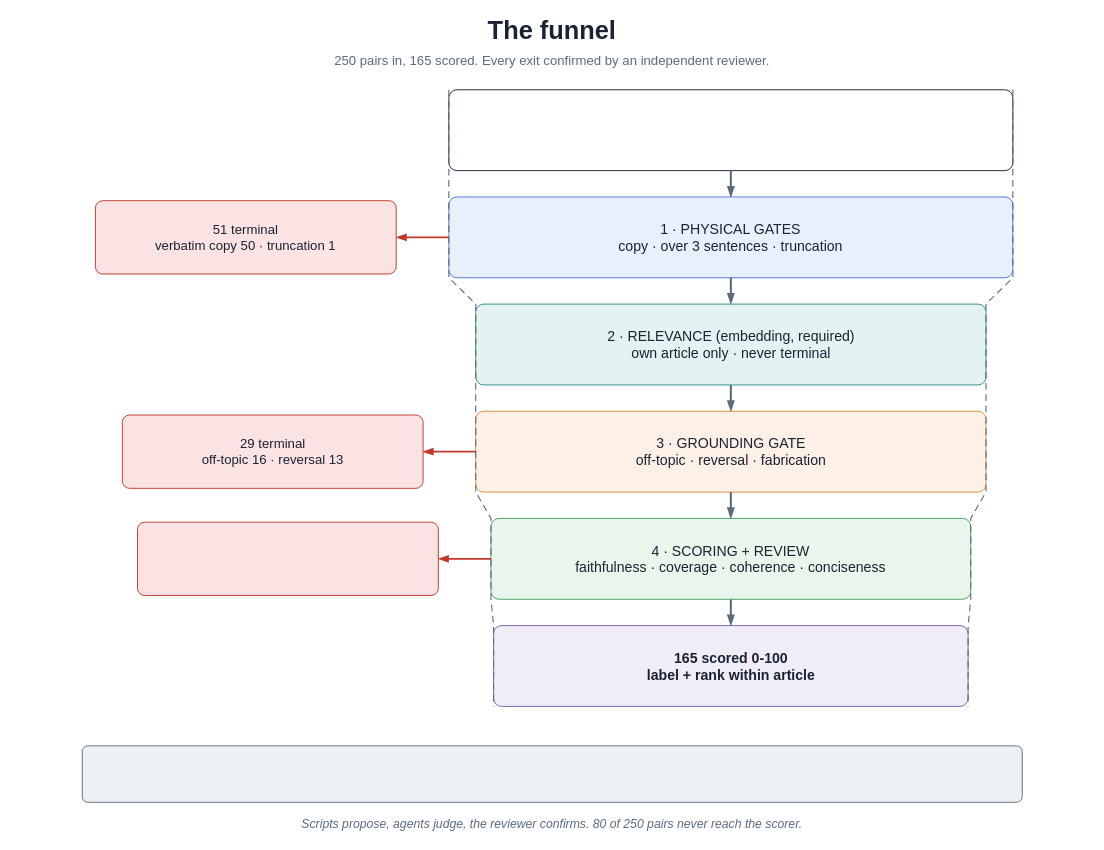
Some shapes in this 1104 by 850 pixel diagram are drawn without their labels. Here are the shapes that lost their labels. From the top down, the centre of each, then its label:
At (730,130): "250 pairs 50 articles x 5 candidates".
At (287,558): "5 terminal fabrication 1 · truncation 4".
At (551,773): "validate → rank within article → charts → report".
